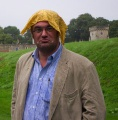male: (29, 17, 61, 55)
